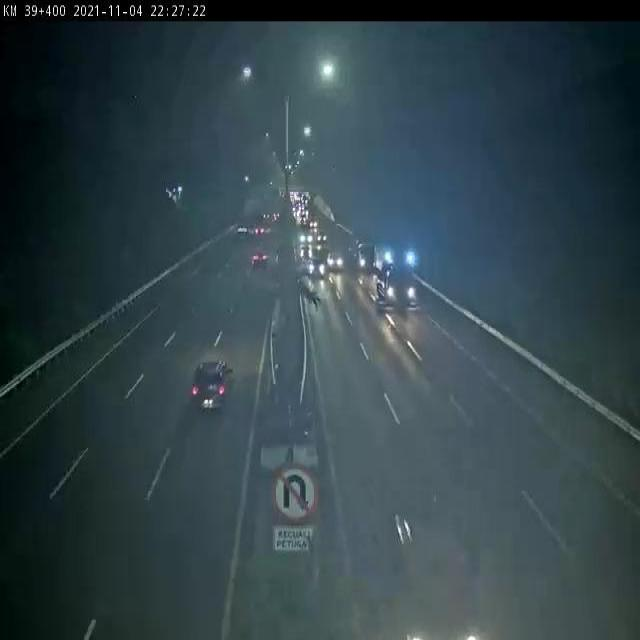car: (190, 360, 234, 413), (250, 250, 270, 270)
truck-l-: (376, 242, 417, 310)
